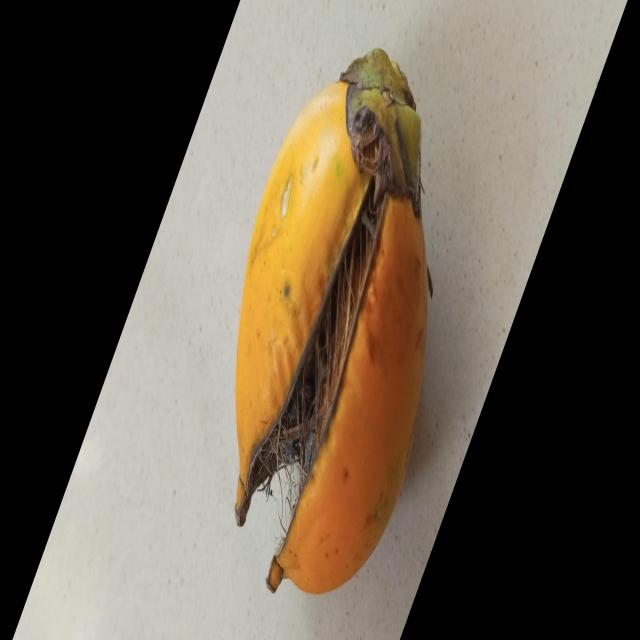damaged: (234, 51, 430, 595)
